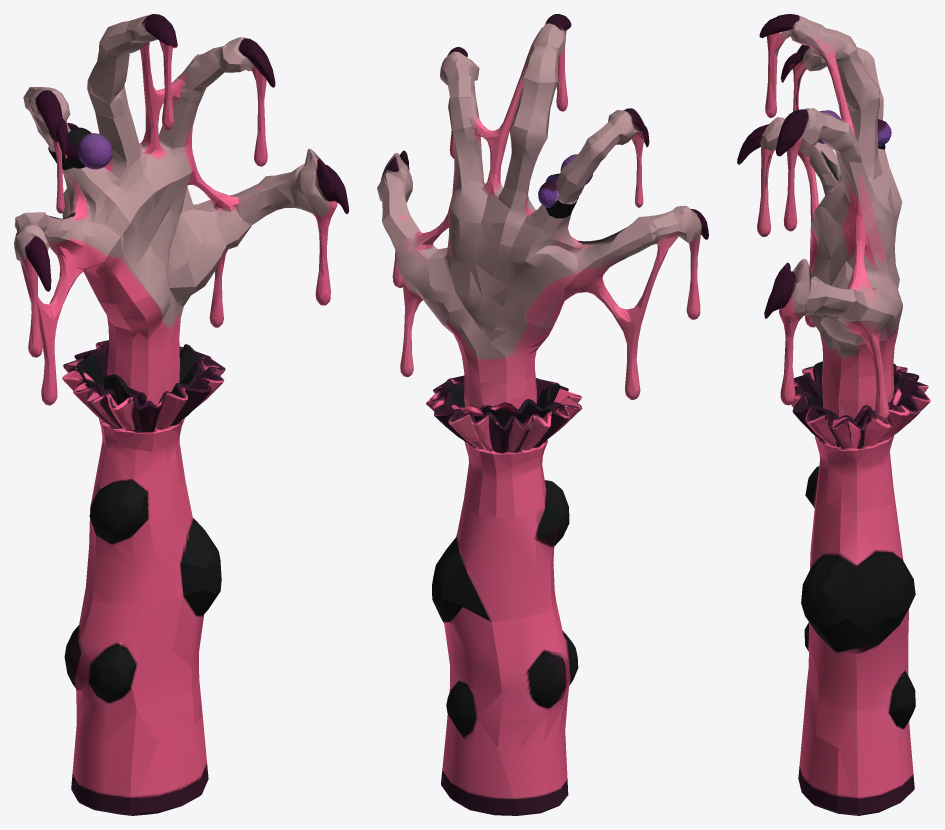
3 views of the same model, side by side, from view 1: azimuth 30°, elevation 25°; view 2: azimuth 150°, elevation 25°; view 3: azimuth 270°, elevation 25° (orthographic). The views are drawn at different scales.
Size of the model in its own units: 0.81 by 1.9 by 0.4366.
1 material, 1 textured.
